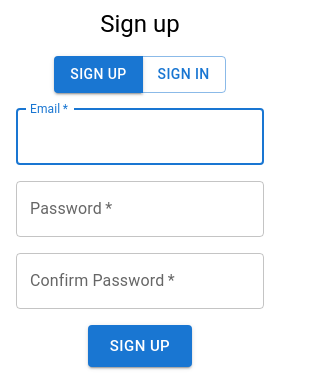
<SignUp /> › sign In › the form contains the right form elements
Click the button with id "signInModeButton": (184, 75) [142,56,226,93]
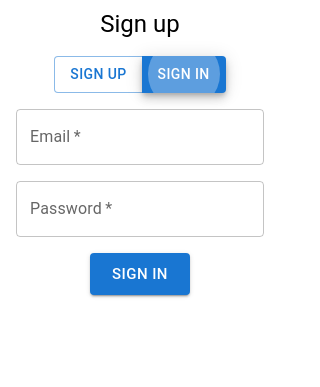
Check: the field named "email" is shown, box [16,109,264,165]
Check: the label named "confirmPassword" is gone
Check: the submit button reads "Sign In", box [90,253,190,295]
